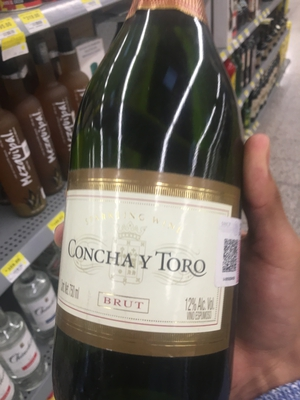brut: (61, 31, 260, 400)
